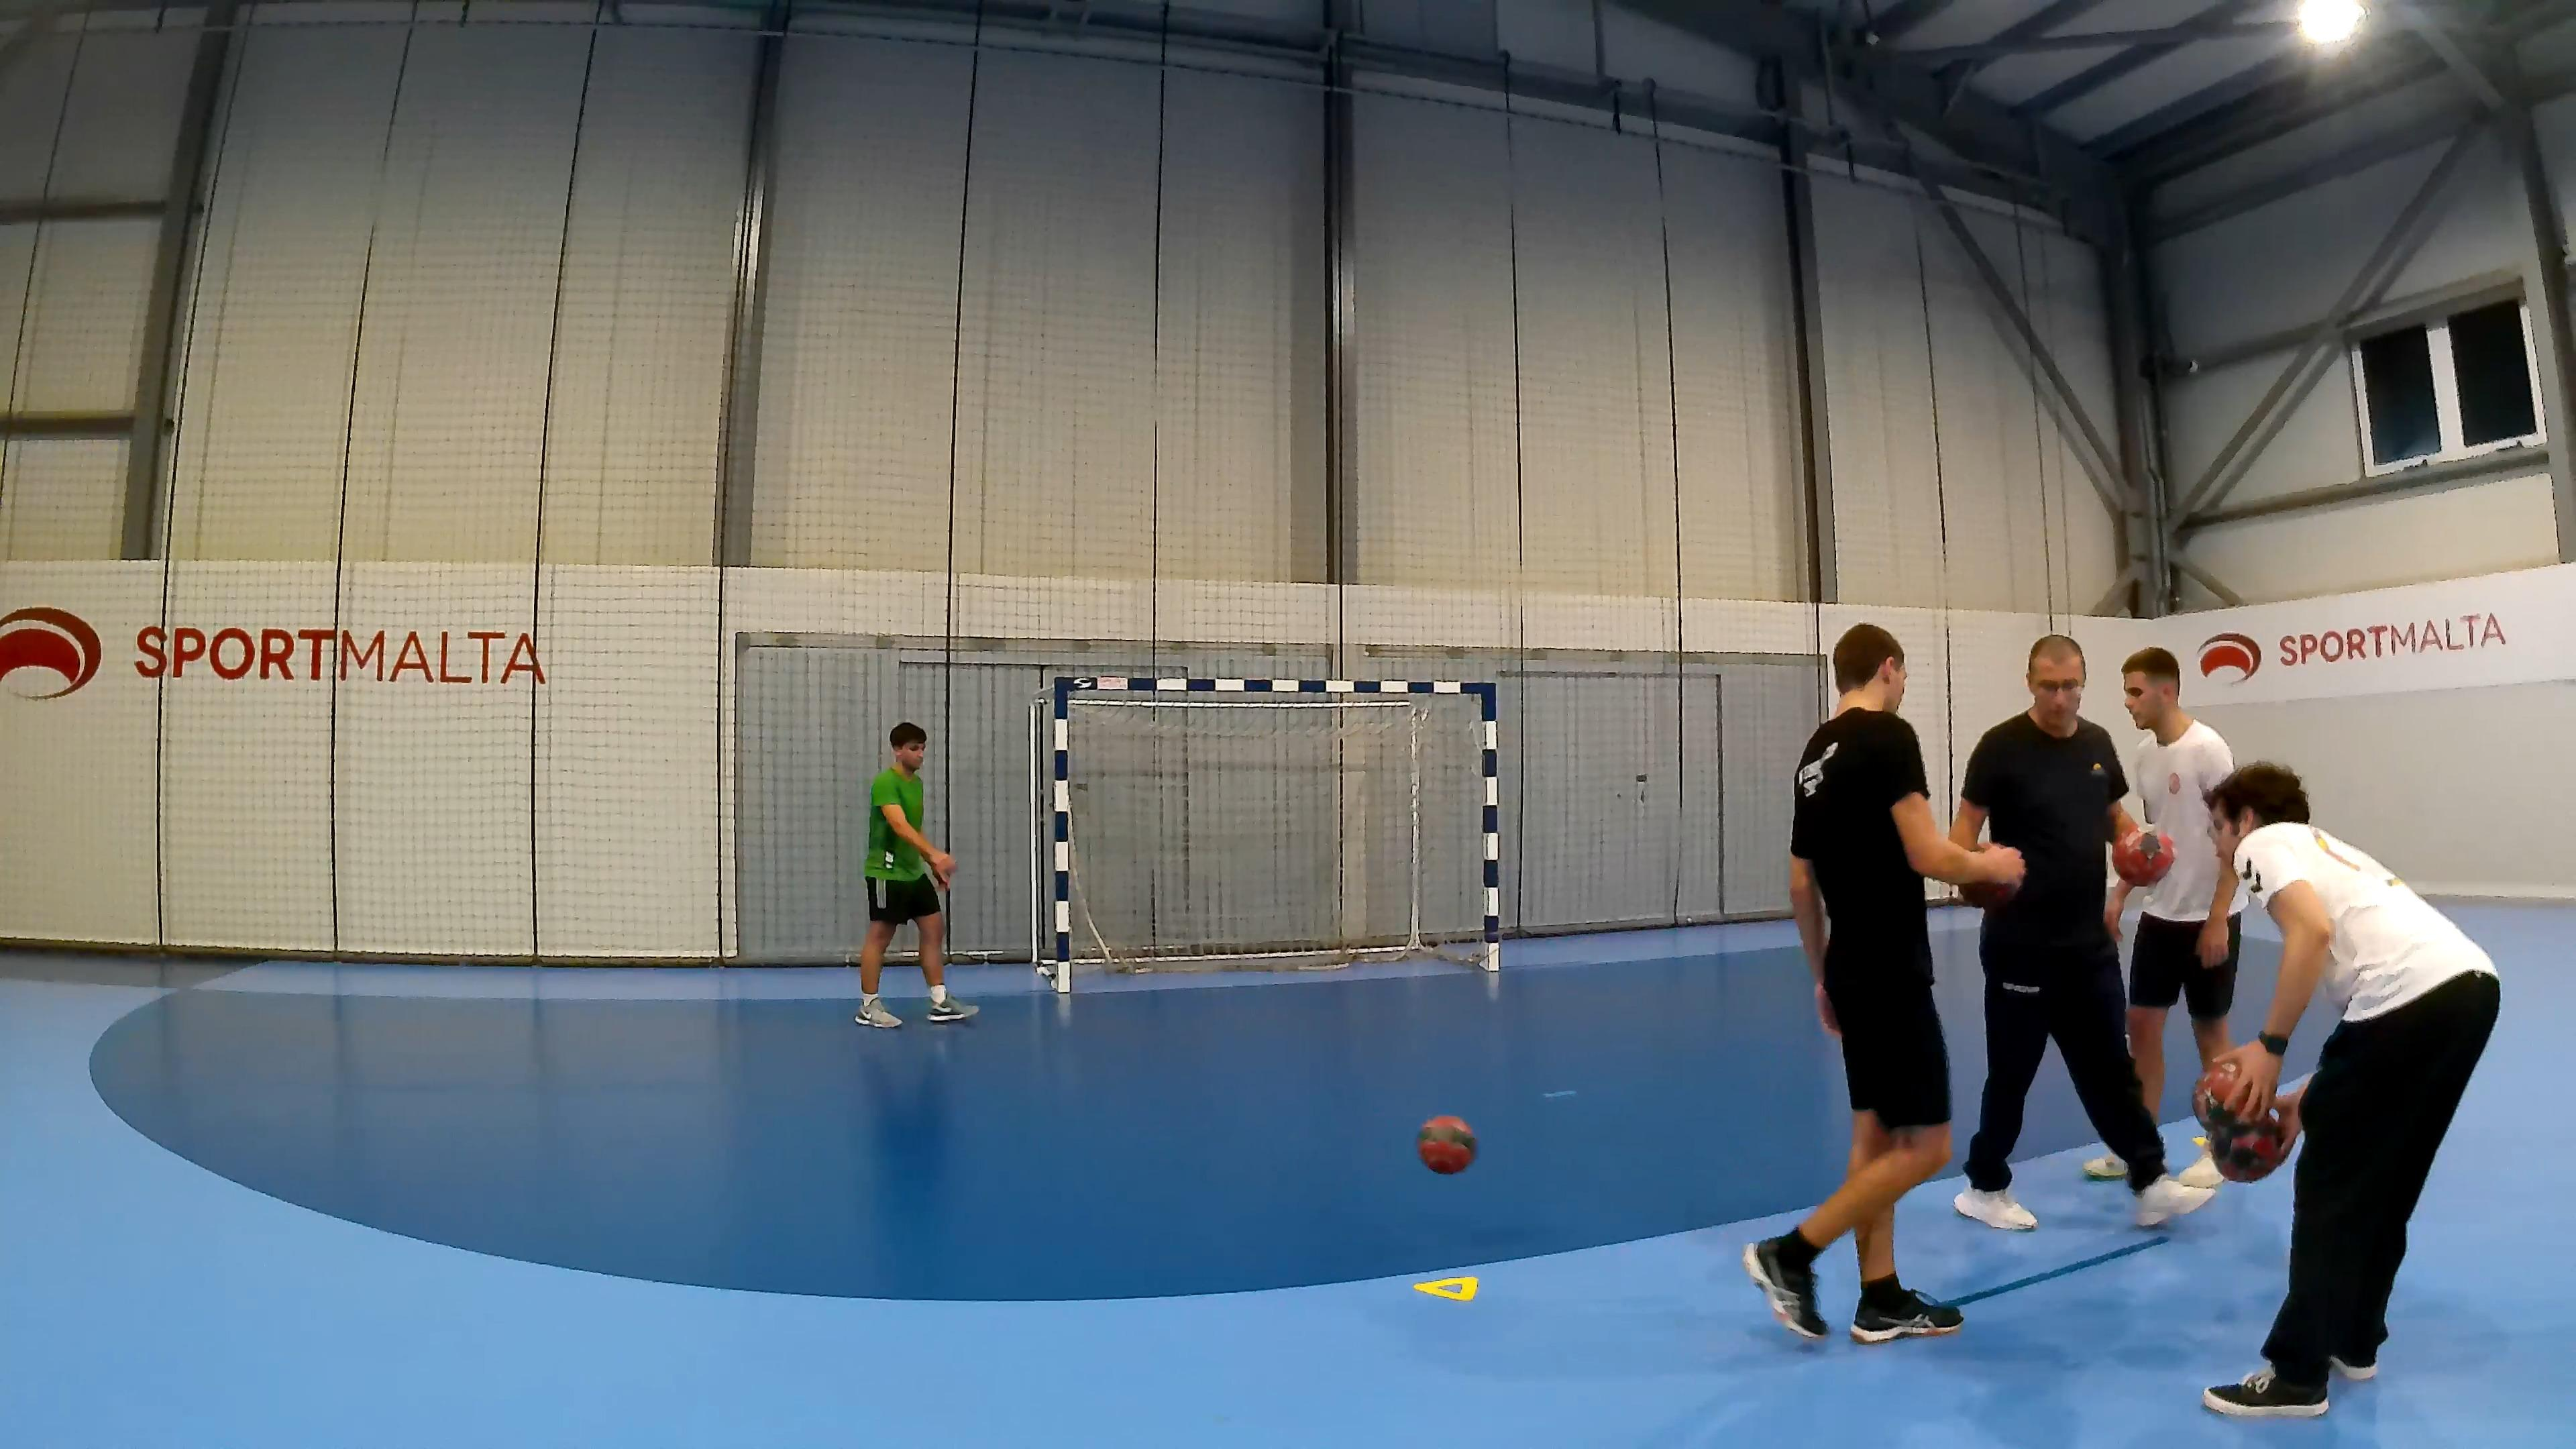handball: (1415, 1113, 1477, 1175)
